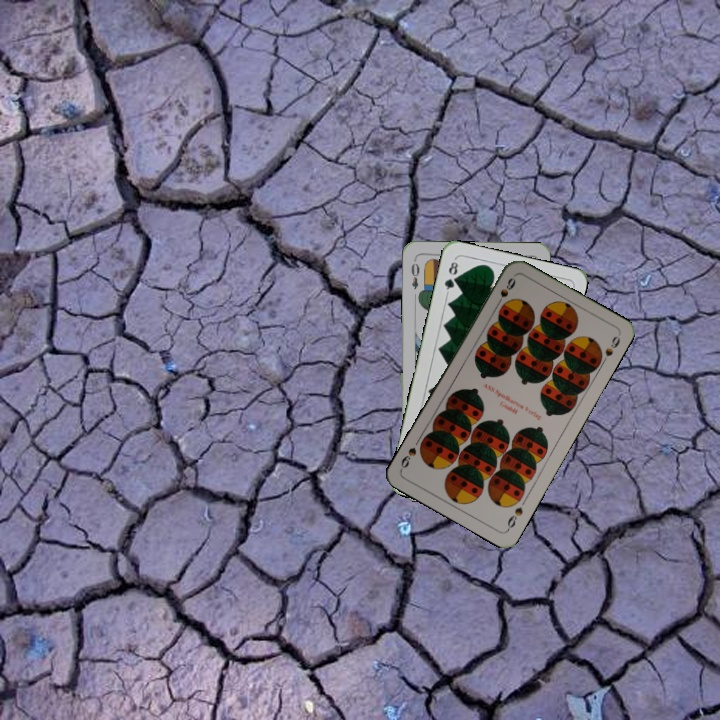EO: (407, 259, 422, 292)
G8: (440, 255, 461, 296)
S9: (492, 273, 518, 310), (503, 503, 525, 533)
